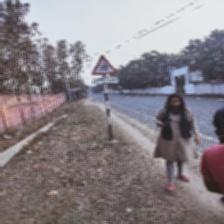College-in-front: (66, 33, 134, 95)
